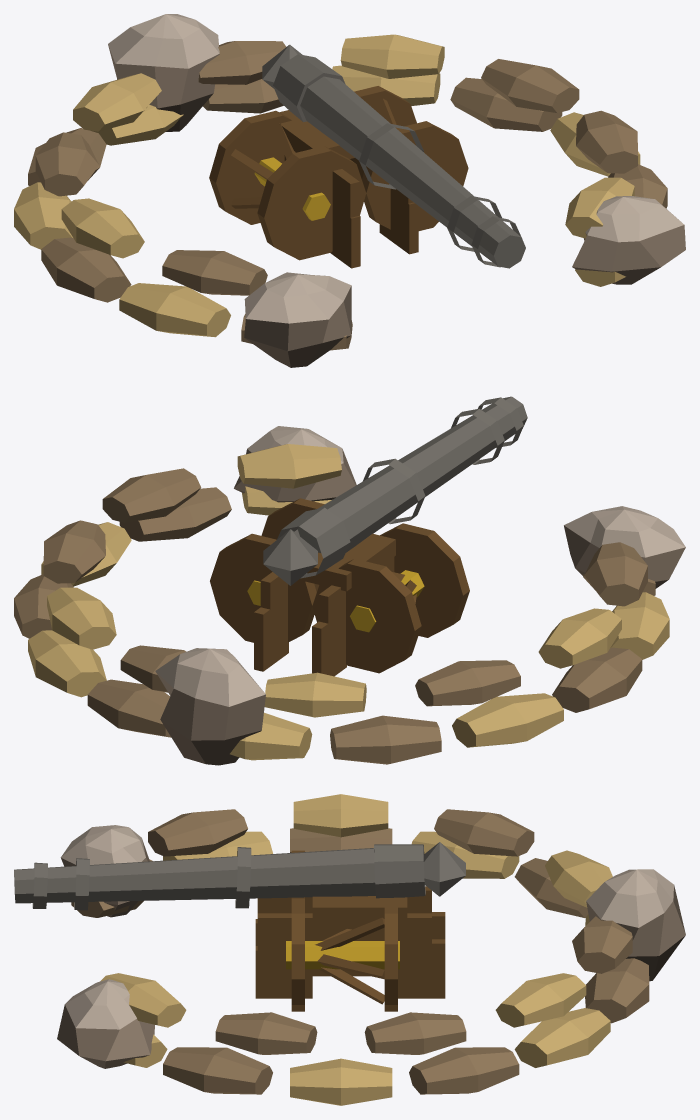
File: CannonEmplacement.fbx
3 renders of one model, top to bottom at view 1: azimuth 30°, elevation 25°; view 2: azimuth 150°, elevation 25°; view 3: azimuth 270°, elevation 25°, orthographic. The views are drawn at different scales.
Visible parts, largest first — view 1: CannonEmplacement; view 2: CannonEmplacement; view 3: CannonEmplacement.
Boxes of the visible parts, <box> form: CannonEmplacement: <box>14,14,685,367</box>; CannonEmplacement: <box>14,396,685,765</box>; CannonEmplacement: <box>14,794,685,1105</box>.
Size of the model in its own units: 333 by 82 by 354.
